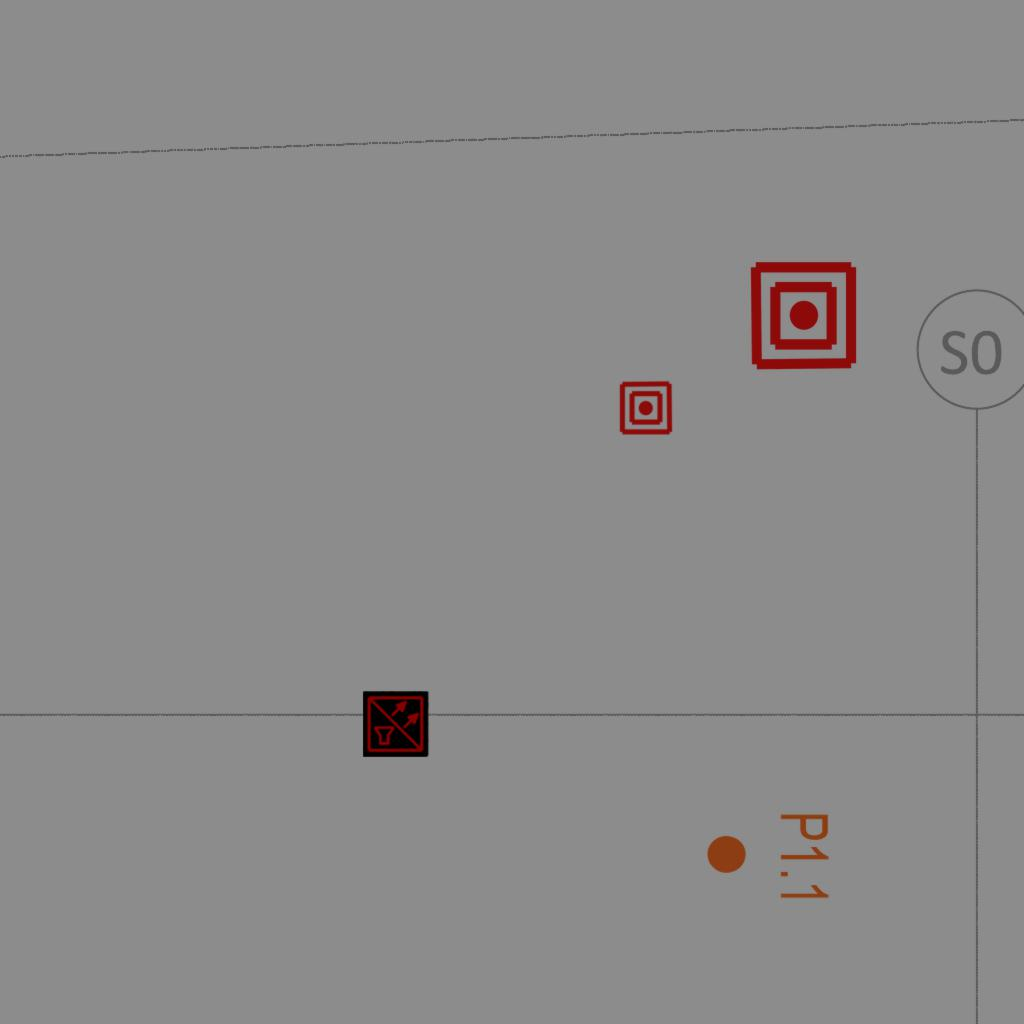Downlight_LED_Einbauleuchten_Flur: (704, 811, 832, 904)
NAM-Nichtautomatischer_Melder: (747, 259, 860, 372), (618, 380, 674, 436)
OKW_Multisensormelder_(Kombination_optischer_Rauch-Kahlenmonoxid_Waerme-Melder): (363, 691, 429, 757)
